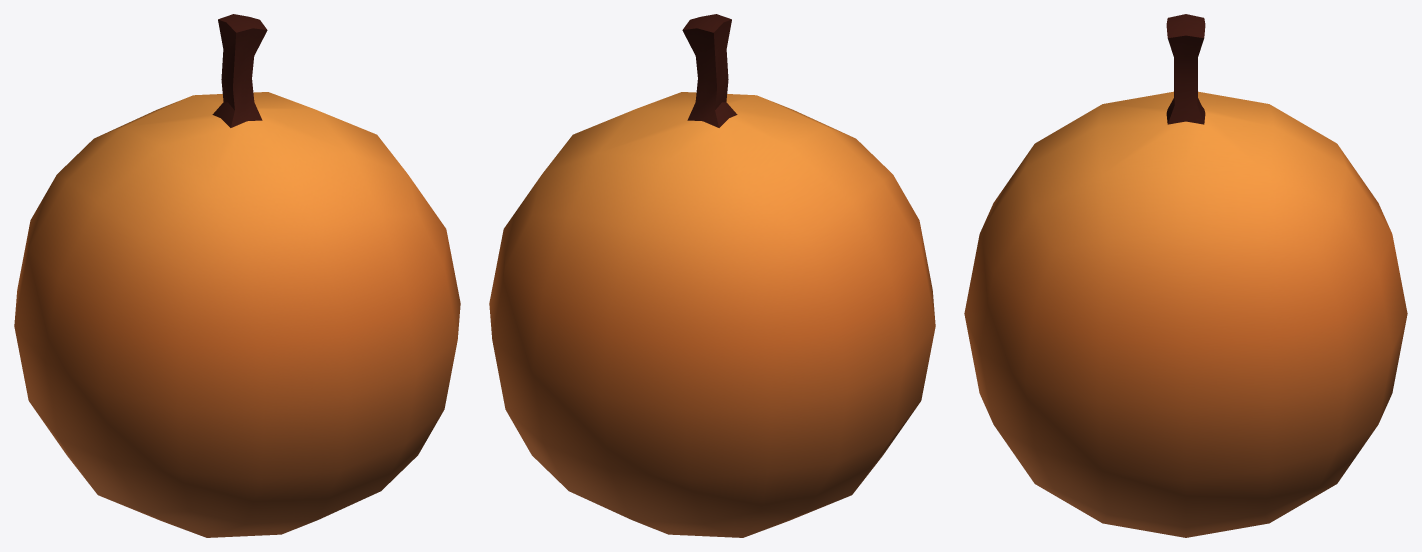
Rendered from SM_Clementine.fbx.
3 renders of one model, left to right at view 1: azimuth 30°, elevation 25°; view 2: azimuth 150°, elevation 25°; view 3: azimuth 270°, elevation 25°, orthographic.
Visible parts, largest first — view 1: SM_Clementine; view 2: SM_Clementine; view 3: SM_Clementine.
Boxes of the visible parts, x1,y1,x2,y2 form: SM_Clementine: (14,14,460,537); SM_Clementine: (489,14,935,537); SM_Clementine: (964,14,1407,537).
Size of the model in its own units: 15.41 by 19.01 by 15.41.
